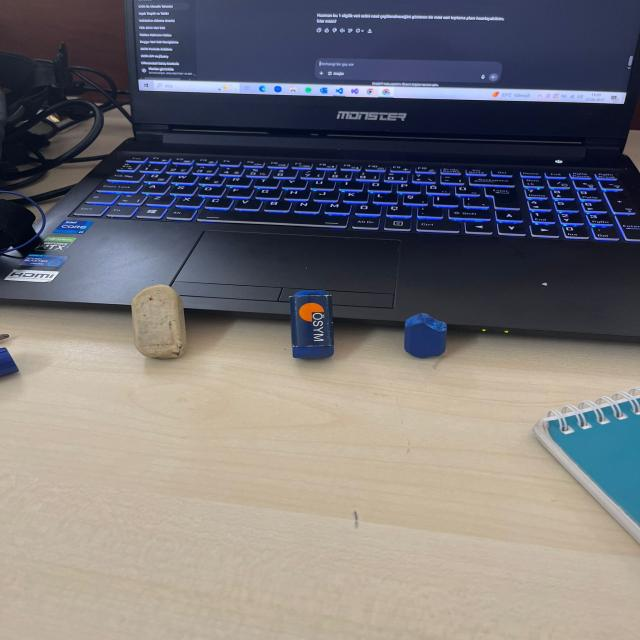eraser: (111, 280, 215, 370), (283, 284, 340, 368), (396, 306, 456, 361)
